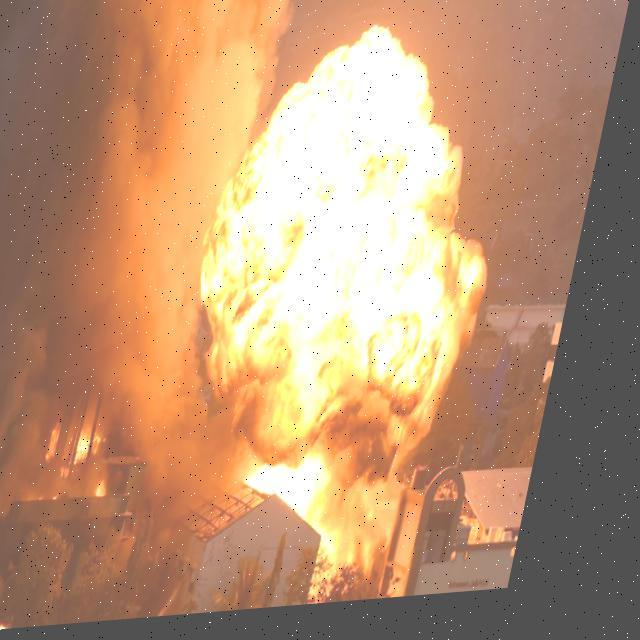Fire: (148, 4, 522, 608)
